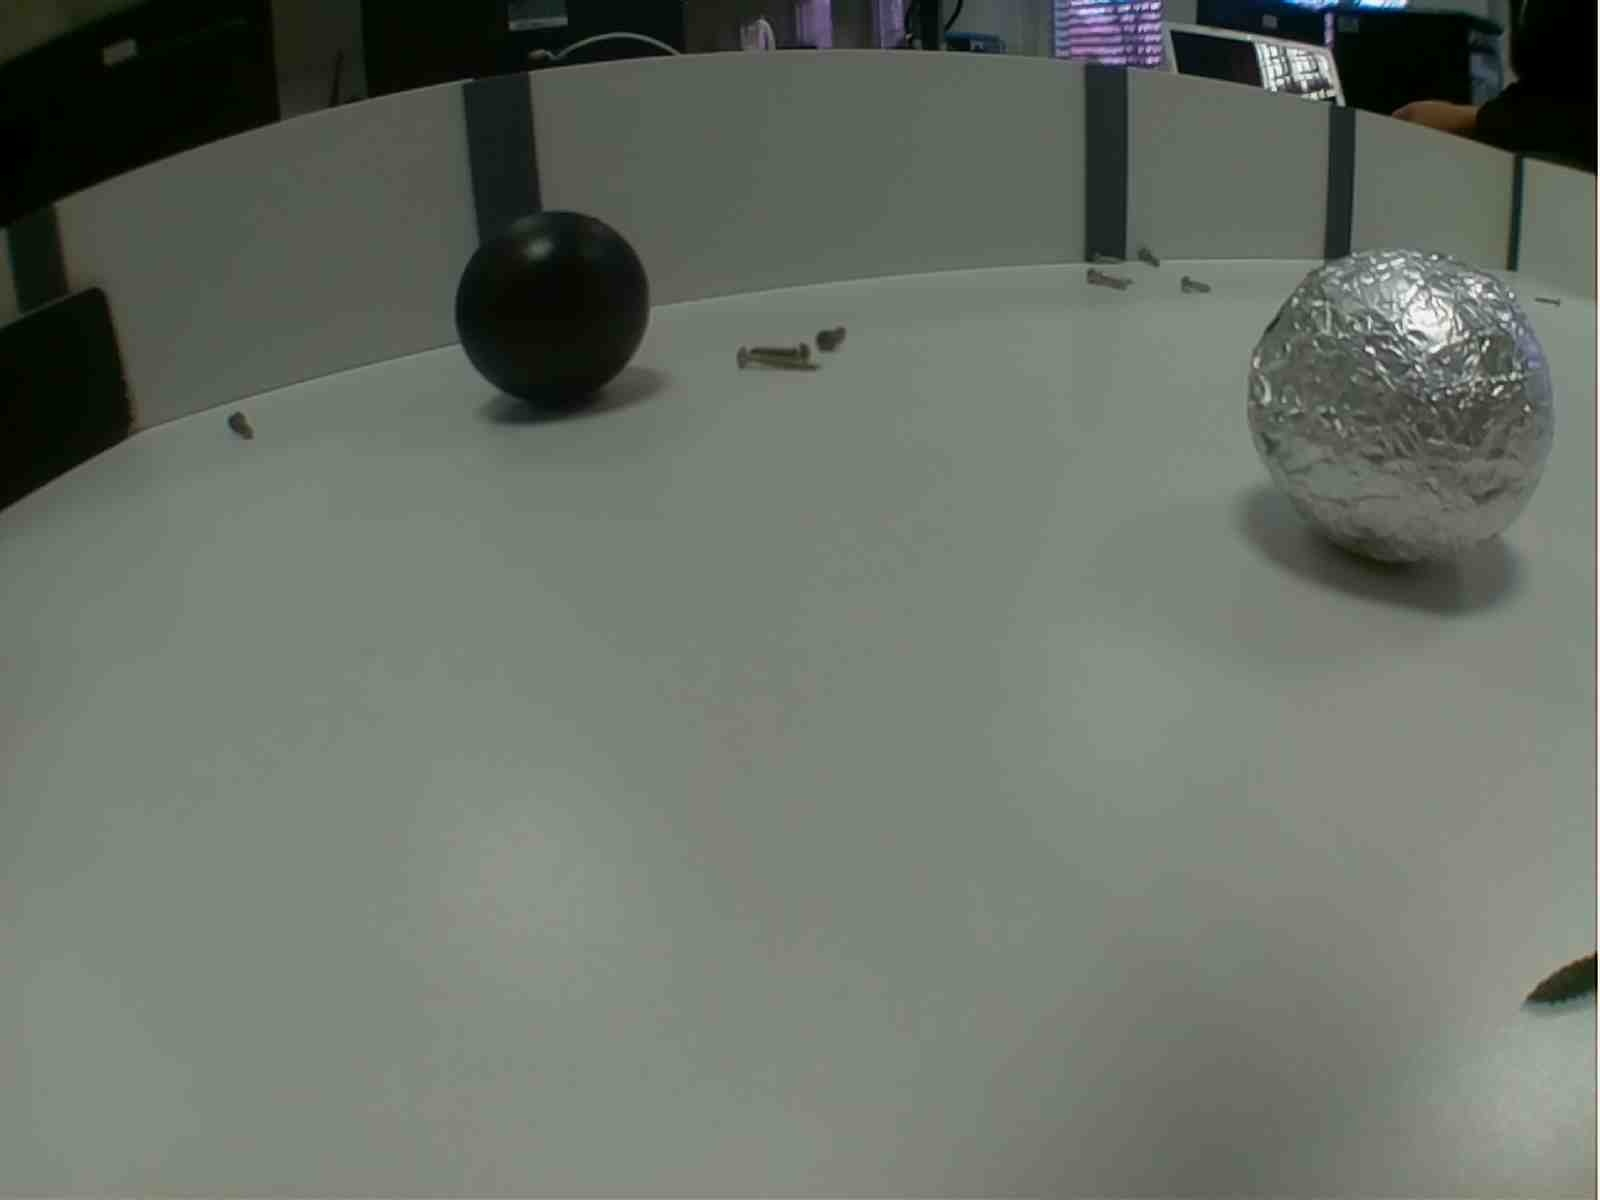bianca: (1250, 243, 1560, 574)
nera: (459, 207, 659, 417)
